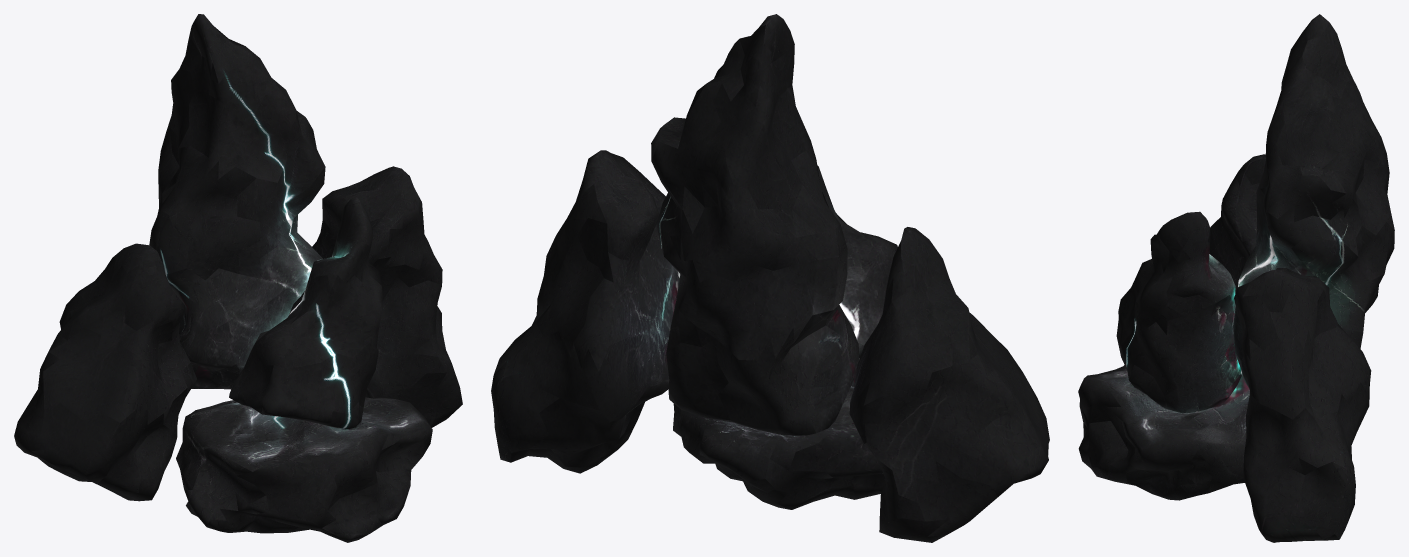
The model's file is moon-rock-cluster.glb.
3 renders of one model, left to right at view 1: azimuth 30°, elevation 25°; view 2: azimuth 150°, elevation 25°; view 3: azimuth 270°, elevation 25°, orthographic. The views are drawn at different scales.
Size of the model in its own units: 1 by 1 by 0.6543.
Materials: 1 (1 with a texture image).
